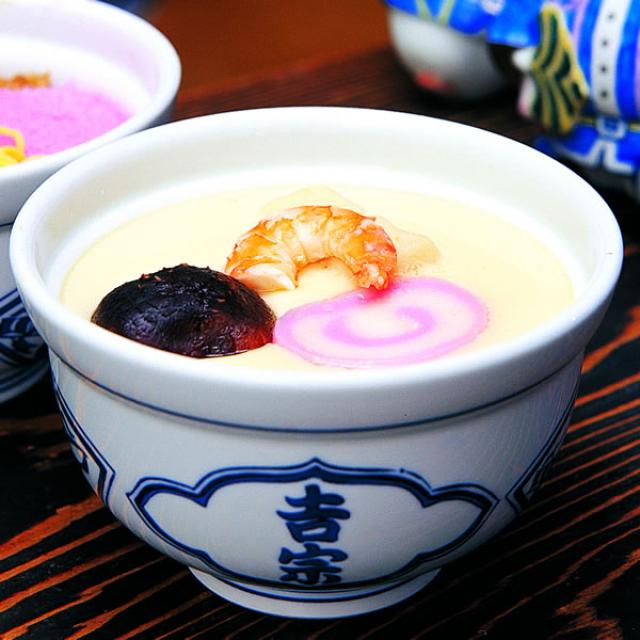鸡蛋料理: (54, 45, 605, 640)
